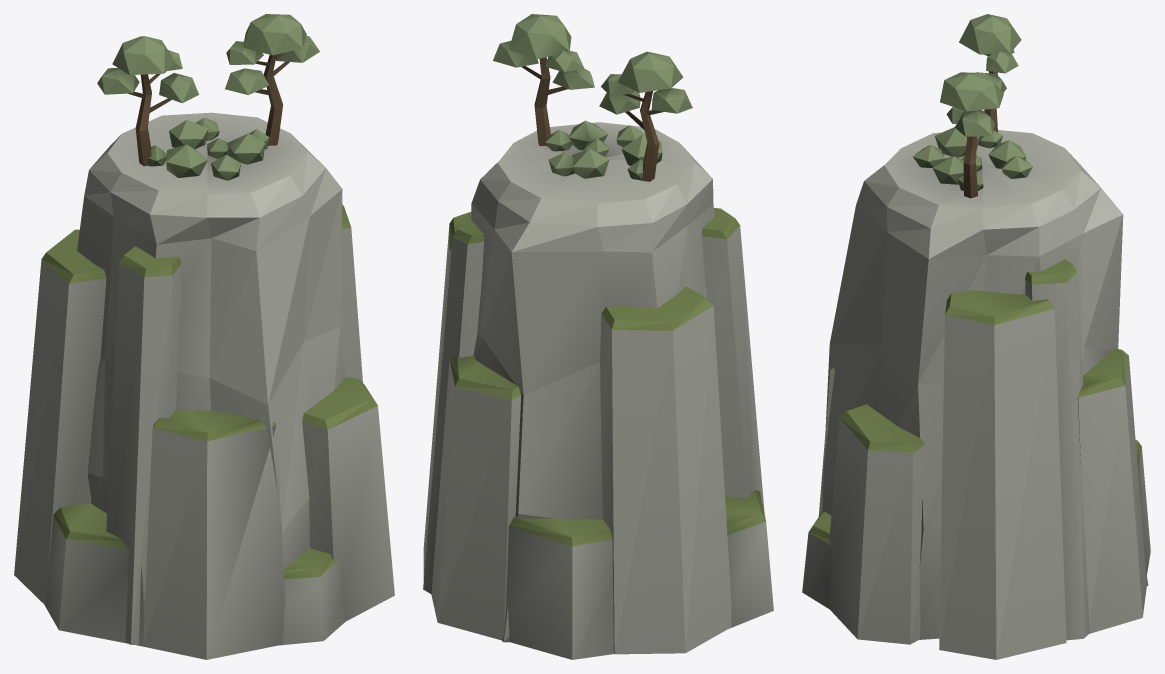
Rendered from karst.glb.
3 renders of one model, left to right at view 1: azimuth 30°, elevation 25°; view 2: azimuth 150°, elevation 25°; view 3: azimuth 270°, elevation 25°, orthographic. The views are drawn at different scales.
Visible parts, largest first — view 1: karst; view 2: karst; view 3: karst.
Part boxes in pixels (box(x1,y1,x2,y2)): karst: box(14, 14, 394, 659); karst: box(423, 14, 773, 659); karst: box(802, 14, 1150, 659).
Size of the model in its own units: 19.6 by 31.24 by 18.36.
